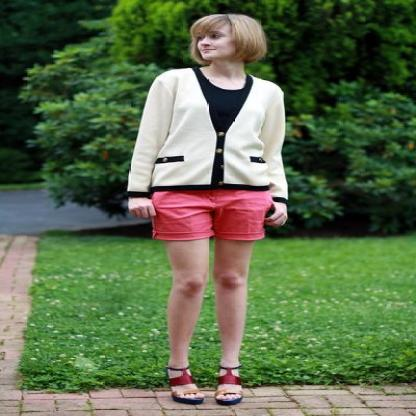jacket: (127, 68, 287, 199)
shirt: (195, 75, 252, 133)
shoe: (150, 366, 248, 406)
shorts: (137, 187, 287, 241)
